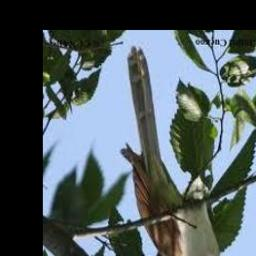Cuckoo: (121, 47, 241, 256)
